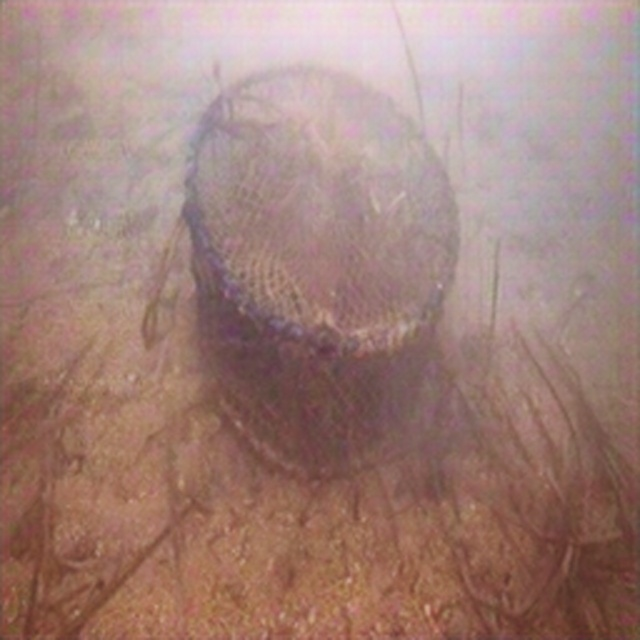mine: (185, 63, 460, 483)
